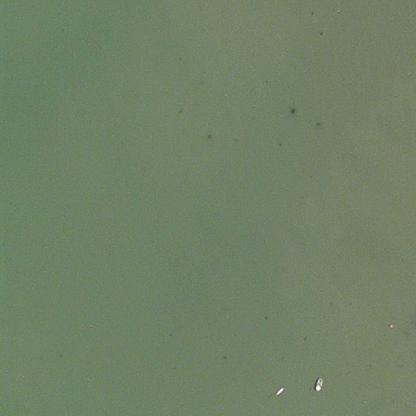ship: (312, 372, 322, 385), (273, 385, 283, 395), (390, 325, 391, 326)
